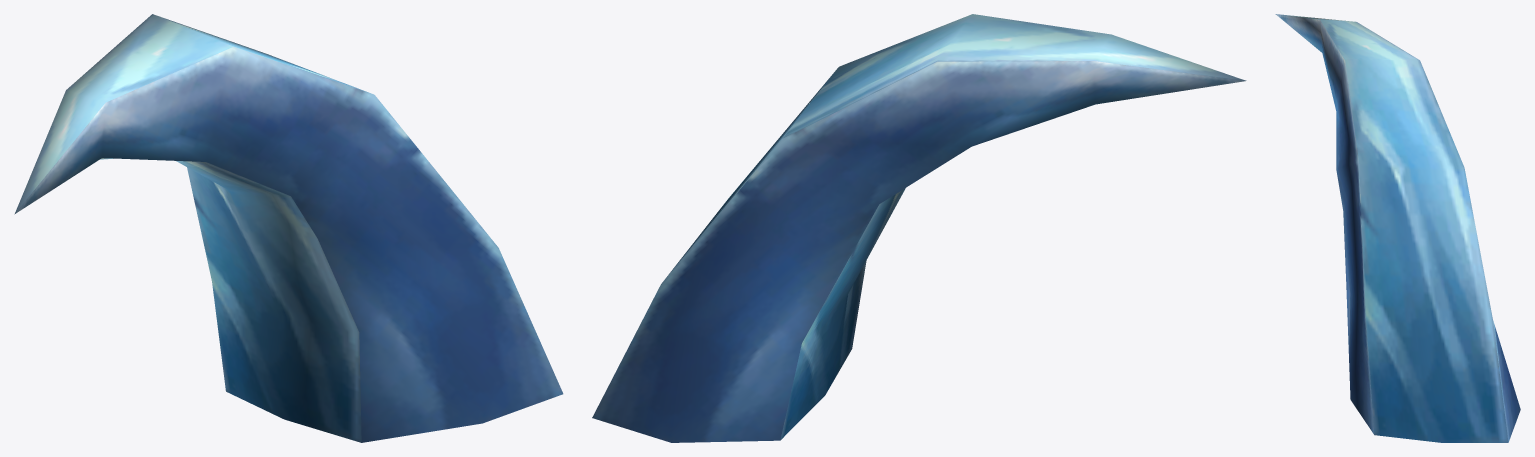
The model's file is SM_crystal_12.fbx.
The picture shows the model from 3 angles, left to right: view 1: azimuth 30°, elevation 25°; view 2: azimuth 150°, elevation 25°; view 3: azimuth 270°, elevation 25°; orthographic projection. The views are drawn at different scales.
Visible parts, largest first — view 1: SM_crystal_12; view 2: SM_crystal_12; view 3: SM_crystal_12.
Boxes of the visible parts, bbox=[...] form: SM_crystal_12: bbox=[14, 14, 563, 442]; SM_crystal_12: bbox=[592, 14, 1246, 442]; SM_crystal_12: bbox=[1275, 14, 1520, 442].
Bounding box in the file's own units: 3.17 × 2.28 × 1.78.
